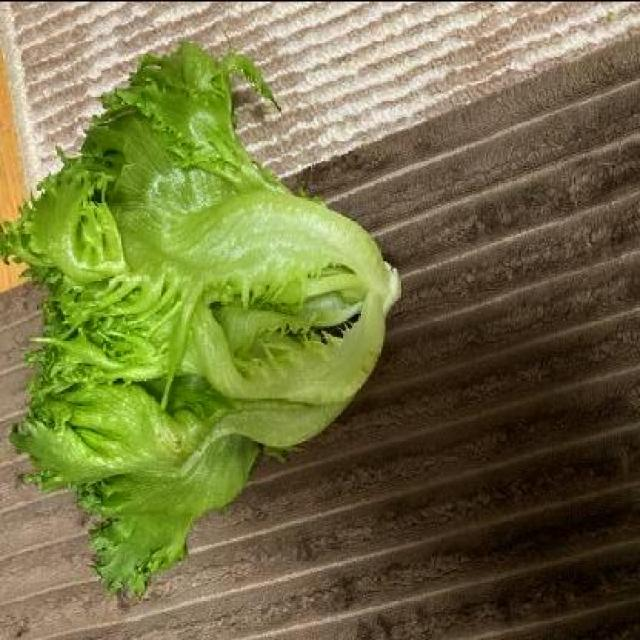Lettuce: (0, 38, 407, 606)
